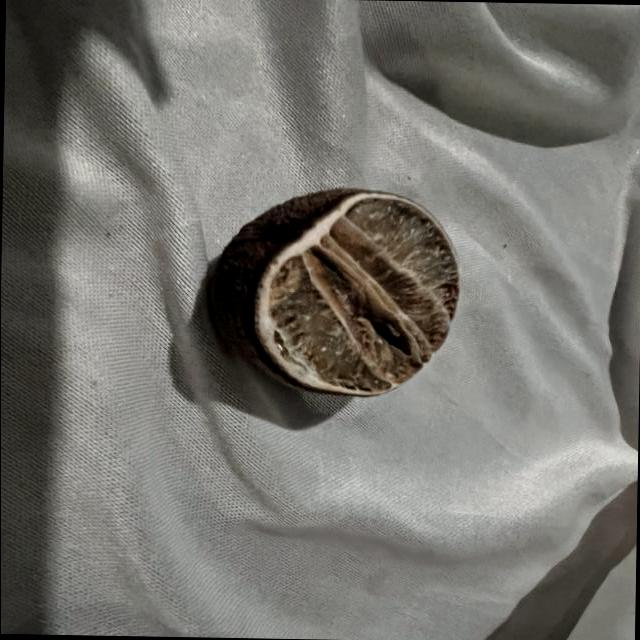Infectious: (206, 188, 461, 399)
Pathological: (1, 1, 640, 640)
